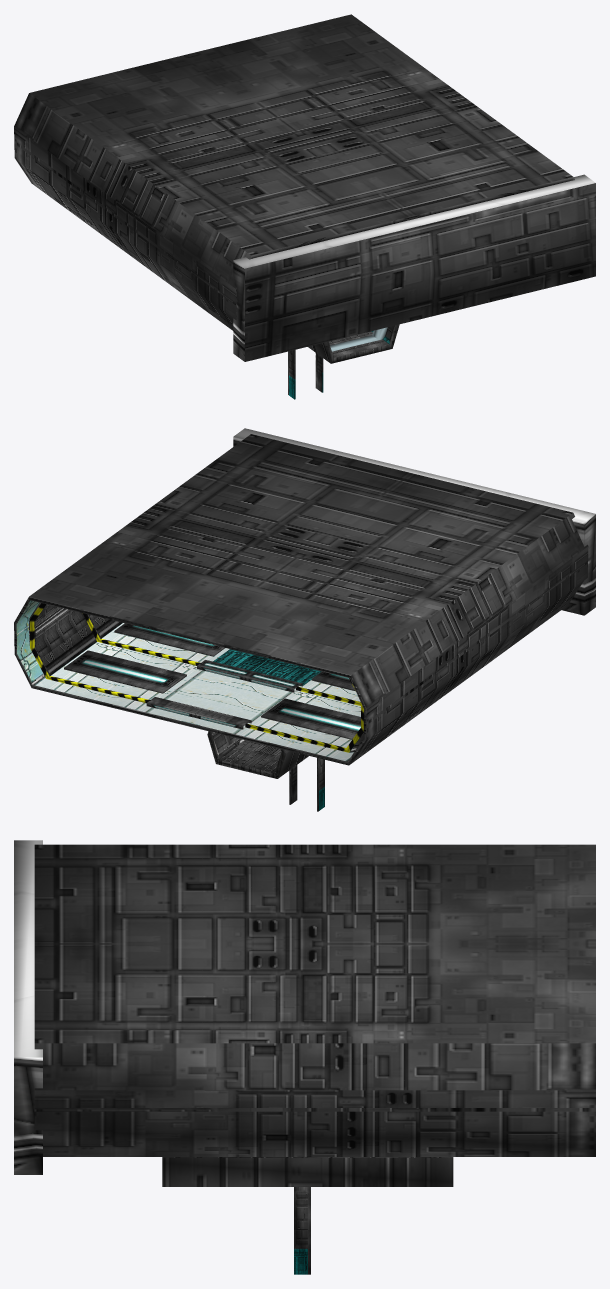
Rendered from fighterBay.fbx.
3 views of the same model, one above another, from view 1: azimuth 30°, elevation 25°; view 2: azimuth 150°, elevation 25°; view 3: azimuth 270°, elevation 25° (orthographic). The views are drawn at different scales.
Visible parts, largest first — view 1: Mesh_000, Plane_005, Mesh_001, Cube_005; view 2: Mesh_000, Plane_006, Plane_005, Plane_007, Mesh_005, Mesh_001, Mesh_004, Cube_005; view 3: Mesh_000, Mesh_001, Plane_005, Cube_005.
Part boxes in pixels (x1,y1,x2,y2): Mesh_000: (14, 14, 574, 330); Plane_005: (233, 174, 595, 361); Mesh_001: (308, 324, 399, 363); Cube_005: (288, 350, 323, 399); Mesh_000: (14, 434, 588, 765); Plane_006: (64, 623, 360, 739); Plane_005: (233, 428, 595, 615); Plane_007: (29, 602, 363, 752); Mesh_005: (30, 603, 363, 752); Mesh_001: (207, 731, 308, 778); Mesh_004: (146, 660, 302, 729); Cube_005: (289, 758, 324, 811); Mesh_000: (34, 844, 595, 1156); Mesh_001: (162, 1157, 453, 1186); Plane_005: (14, 840, 42, 1174); Cube_005: (294, 1187, 310, 1274).
Size of the model in its own units: 532 by 368 by 602.
